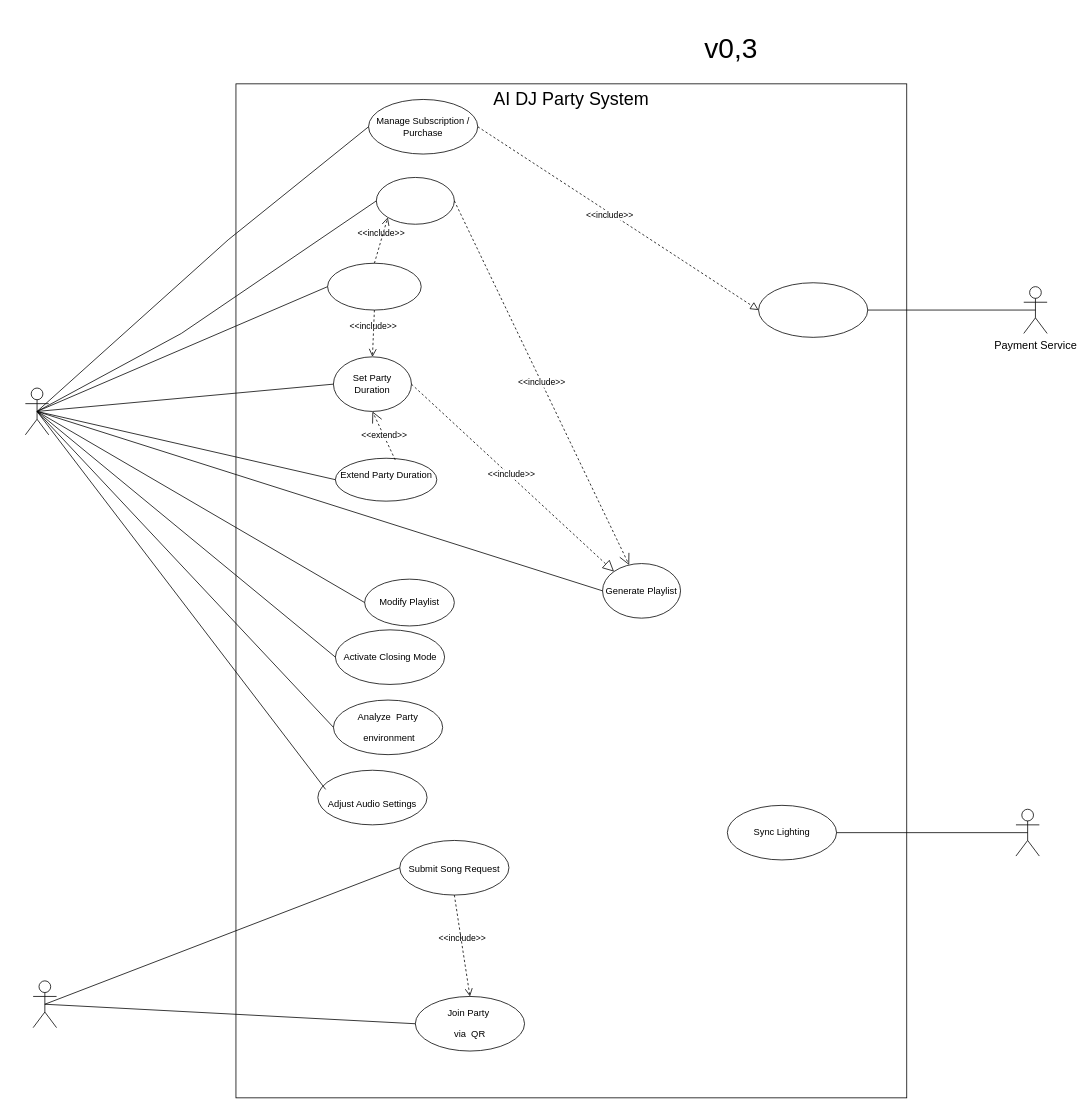
Some shapes in this 1090 by 1112 pixel diagram are drawn without their labels. Here are the shapes that lost their labels. From the top down, the centre of each, then its label:
At (415,200): "Select Party Theme".
At (374,286): "Create Party Event".
At (813,309): "Process Payment".
At (37,411): "Party Host".
At (1027,832): "Lighting System".
At (44,1004): "Party Guests".
